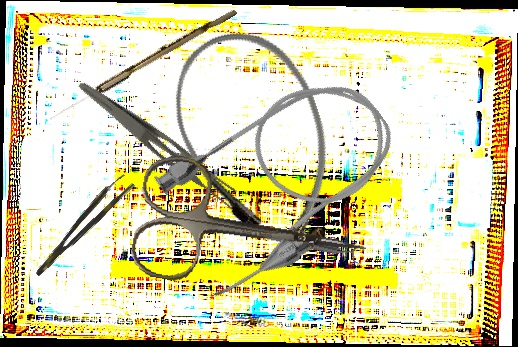Cannula: (140, 51, 423, 311), (154, 12, 362, 281)
Dressing Forceps: (64, 79, 253, 216)
Fixation Ring: (235, 217, 365, 267)
Iris Scissors: (127, 150, 377, 313)
Surgical Spoon: (47, 4, 238, 125)
Tissue Forceps: (26, 171, 136, 279)
